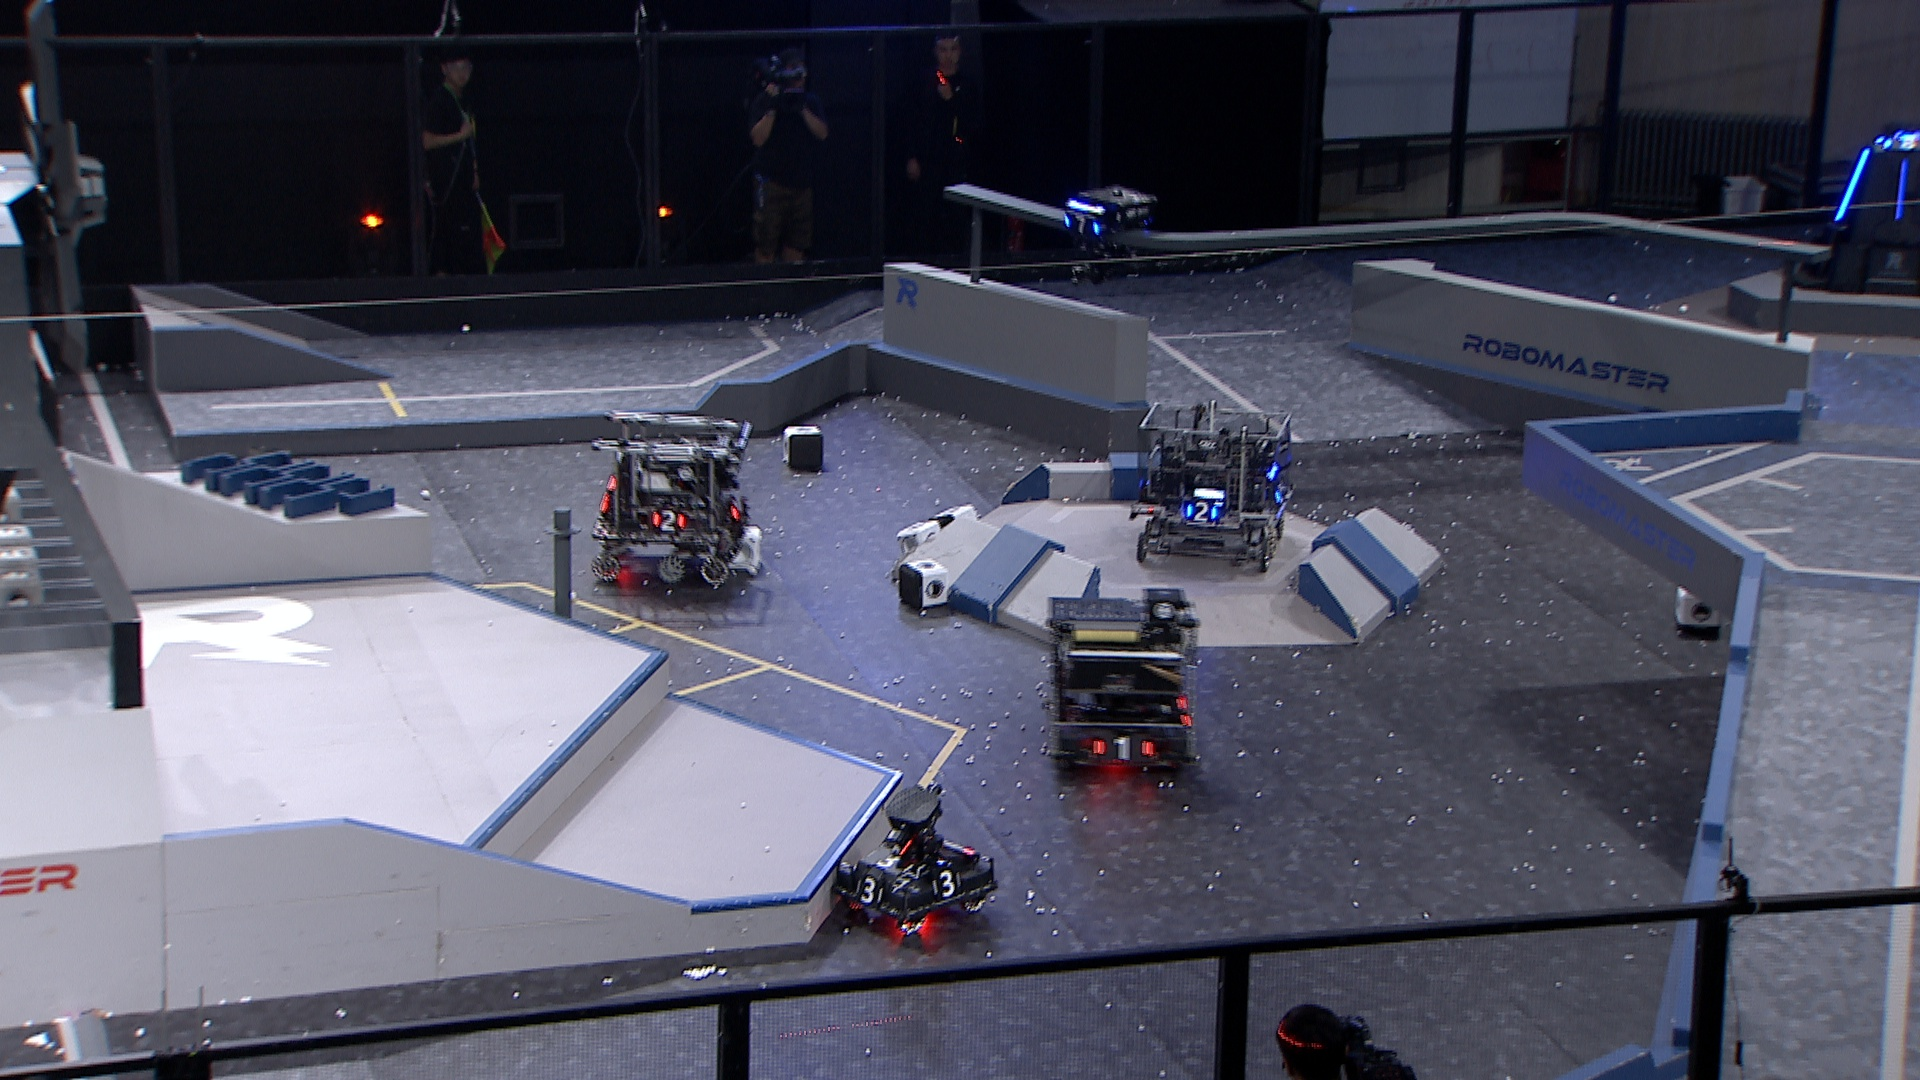armor: (1832, 146, 1871, 225), (1091, 733, 1154, 764), (1894, 158, 1912, 224), (868, 849, 913, 874), (1059, 214, 1102, 239), (647, 508, 686, 534), (931, 869, 963, 899), (1183, 501, 1218, 527), (855, 877, 884, 907), (1883, 135, 1920, 153), (727, 495, 746, 524), (1273, 484, 1288, 508)
base: (1784, 131, 1920, 295)
car: (585, 409, 761, 591), (1131, 396, 1299, 572), (1040, 595, 1204, 773), (829, 785, 1000, 936)
watcher: (1058, 186, 1153, 282)
